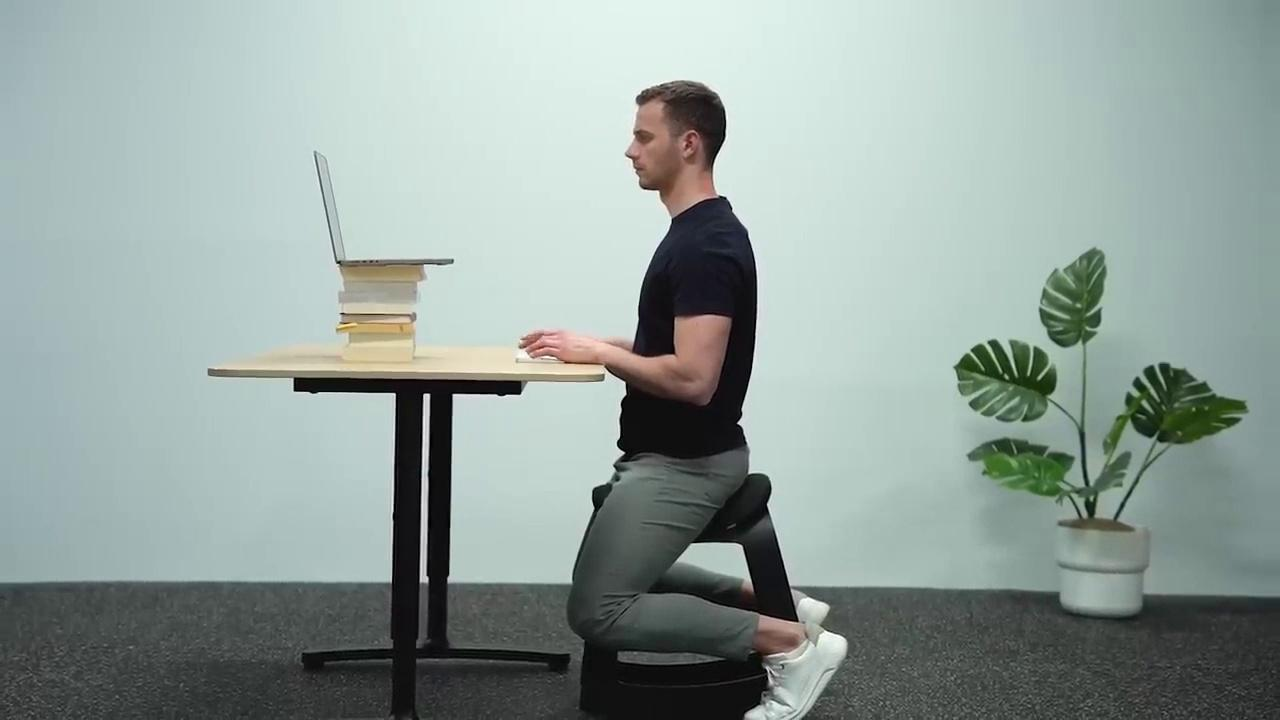GoodPosture: (520, 80, 846, 719)
